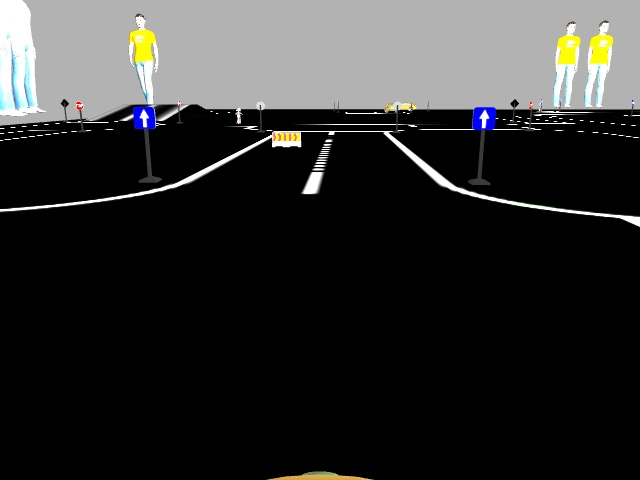ClosedRoadStand: (271, 132, 300, 147)
OneWay: (474, 107, 495, 130), (133, 107, 155, 127)
